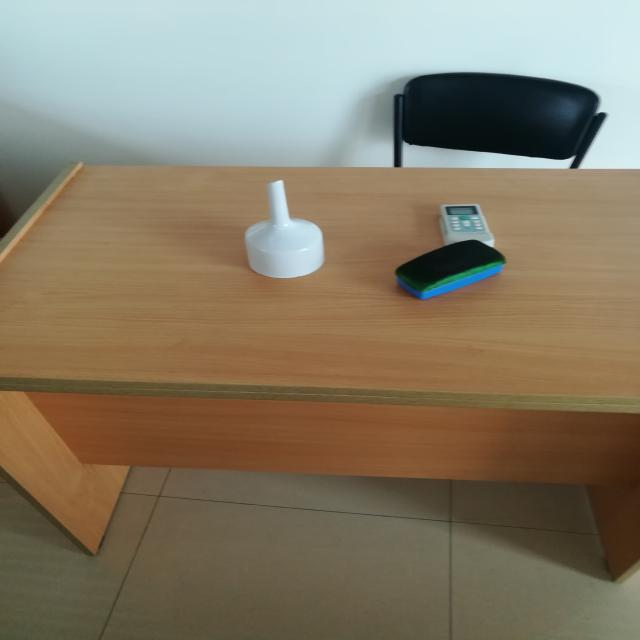Buchner_Funnel: (230, 165, 356, 298)
